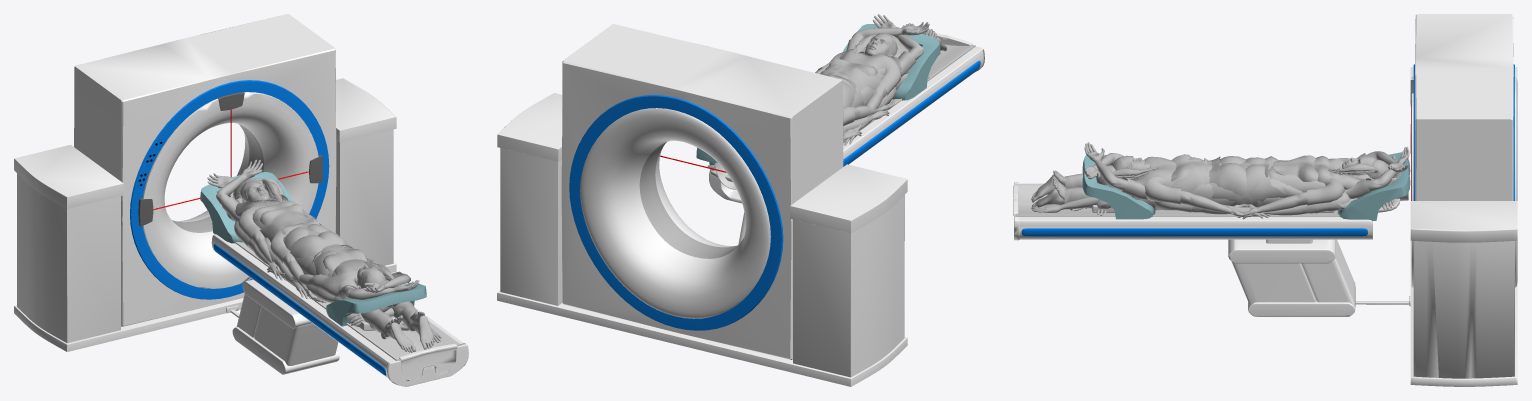
Rendered from Erica.glb.
3 renders of one model, left to right at view 1: azimuth 30°, elevation 25°; view 2: azimuth 150°, elevation 25°; view 3: azimuth 270°, elevation 25°, orthographic. The views are drawn at different scales.
Visible parts, largest first — view 1: SM_MRI_tilt.001, SM_MRI_baseGRP_MRI, SM_MRI_bed_upDown.001, SM_MRI_bed_inOut.001, SM_head_arm_rest2.001, SM_head_arm_rest2, F2_body_geo1, F2_body_geo8, F2_body_geo1.001, F2_pants_geo8, F2_scrubShirt_geo1, F2_scrubShirt_geo1.001 (+9 smaller); view 2: SM_MRI_tilt.001, SM_MRI_baseGRP_MRI, SM_MRI_bed_upDown.001, F2_body_geo1.001, SM_head_arm_rest2.001, SM_MRI_bed_inOut.001, F2_scrubShirt_geo1.001, F2_scrubShirt_geo4, F2_scrubShirt_geo6, F2_pants_geo8, F2_body_geo8, F2_body_geo3; view 3: SM_MRI_baseGRP_MRI, SM_MRI_tilt.001, SM_MRI_bed_upDown.001, SM_MRI_bed_inOut.001, SM_head_arm_rest2, SM_head_arm_rest2.001, F2_body_geo1.001, F2_scrubShirt_geo1, F2_pants_geo8, F2_body_geo1, F2_scrubShirt_geo1.001, F2_scrubShirt_geo6 (+13 smaller).
Part boxes in pixels (bbox=[...]): SM_MRI_tilt.001: bbox=[74, 14, 336, 326]; SM_MRI_baseGRP_MRI: bbox=[14, 78, 396, 374]; SM_MRI_bed_upDown.001: bbox=[211, 234, 468, 386]; SM_MRI_bed_inOut.001: bbox=[235, 242, 460, 381]; SM_head_arm_rest2.001: bbox=[326, 282, 426, 326]; SM_head_arm_rest2: bbox=[200, 172, 292, 243]; F2_body_geo1: bbox=[207, 159, 398, 308]; F2_body_geo8: bbox=[282, 252, 433, 352]; F2_body_geo1.001: bbox=[232, 193, 419, 299]; F2_pants_geo8: bbox=[314, 247, 417, 338]; F2_scrubShirt_geo1: bbox=[222, 186, 307, 227]; F2_scrubShirt_geo1.001: bbox=[320, 244, 402, 298]; SM_MRI_tilt.001: bbox=[561, 24, 843, 359]; SM_MRI_baseGRP_MRI: bbox=[497, 93, 907, 386]; SM_MRI_bed_upDown.001: bbox=[709, 46, 984, 203]; F2_body_geo1.001: bbox=[852, 14, 929, 59]; SM_head_arm_rest2.001: bbox=[843, 24, 940, 100]; SM_MRI_bed_inOut.001: bbox=[843, 32, 975, 142]; F2_scrubShirt_geo1.001: bbox=[825, 38, 915, 85]; F2_scrubShirt_geo4: bbox=[821, 49, 899, 94]; F2_scrubShirt_geo6: bbox=[817, 51, 901, 95]; F2_pants_geo8: bbox=[825, 64, 880, 89]; F2_body_geo8: bbox=[849, 37, 947, 120]; F2_body_geo3: bbox=[843, 23, 938, 132]; SM_MRI_baseGRP_MRI: bbox=[1228, 67, 1517, 386]; SM_MRI_tilt.001: bbox=[1410, 14, 1517, 287]; SM_MRI_bed_upDown.001: bbox=[1014, 182, 1372, 243]; SM_MRI_bed_inOut.001: bbox=[1013, 184, 1339, 216]; SM_head_arm_rest2: bbox=[1337, 152, 1410, 220]; SM_head_arm_rest2.001: bbox=[1082, 154, 1155, 219]; F2_body_geo1.001: bbox=[1083, 142, 1400, 190]; F2_scrubShirt_geo1: bbox=[1273, 153, 1371, 198]; F2_pants_geo8: bbox=[1064, 157, 1204, 210]; F2_body_geo1: bbox=[1342, 146, 1409, 191]; F2_scrubShirt_geo1.001: bbox=[1119, 154, 1221, 199]; F2_scrubShirt_geo6: bbox=[1145, 157, 1219, 204].
Size of the model in its own units: 2.3 by 1.53 by 2.95.
Materials: 1 (1 with a texture image).
